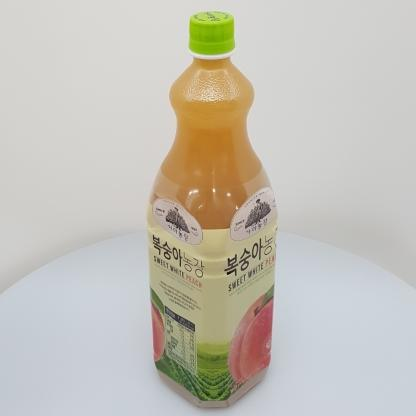-------1-5L: (146, 11, 278, 408)
